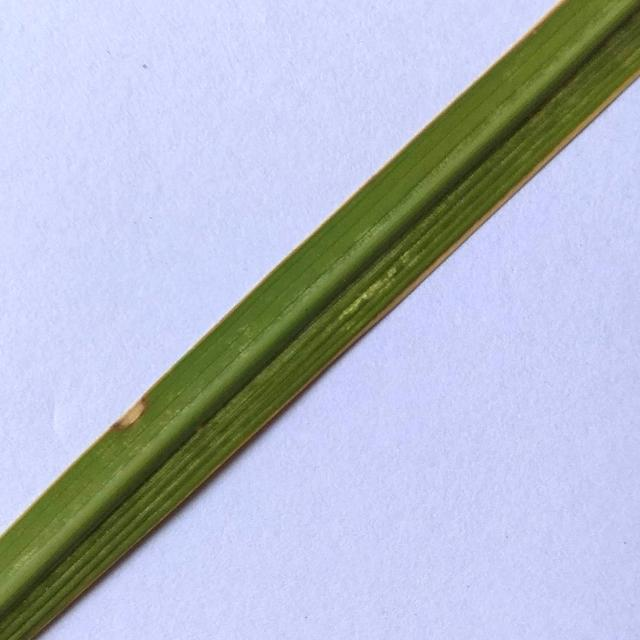Blast: (116, 400, 147, 426)
